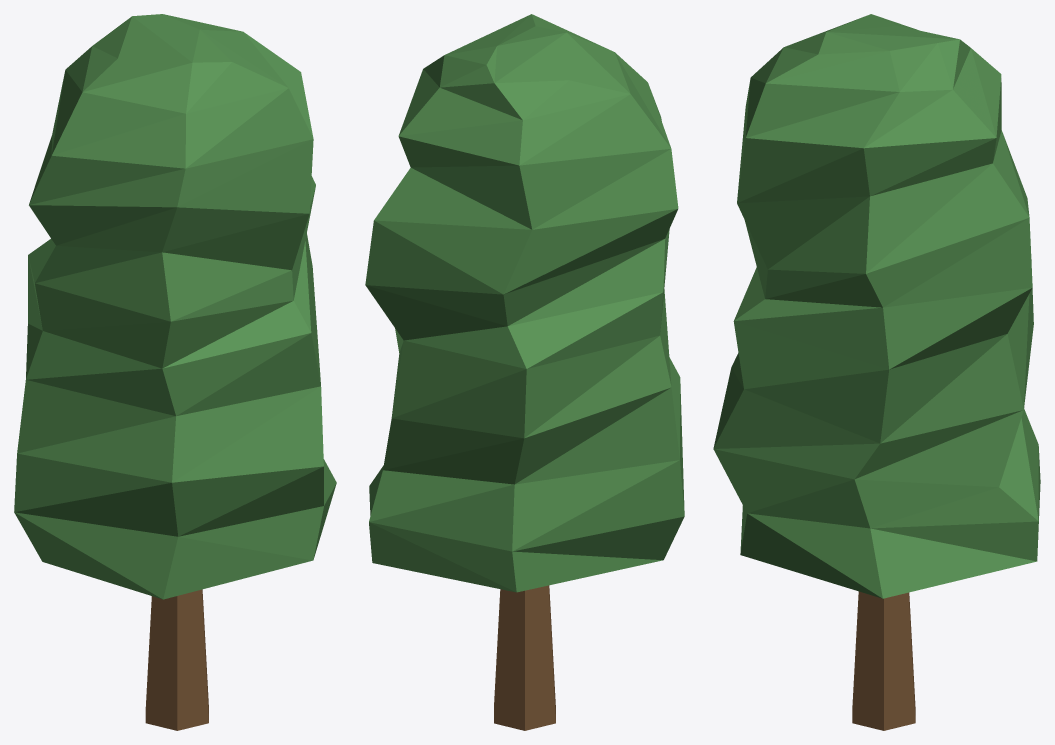
File: tree3d-101.glb
The picture shows the model from 3 angles, left to right: view 1: azimuth 30°, elevation 25°; view 2: azimuth 150°, elevation 25°; view 3: azimuth 270°, elevation 25°; orthographic projection.
Visible parts, largest first — view 1: tree3d-101; view 2: tree3d-101; view 3: tree3d-101.
Boxes of the visible parts, bbox=[...] form: tree3d-101: bbox=[14, 14, 336, 730]; tree3d-101: bbox=[365, 14, 684, 730]; tree3d-101: bbox=[713, 14, 1040, 730].
Size of the model in its own units: 0.4961 by 1 by 0.4371.
